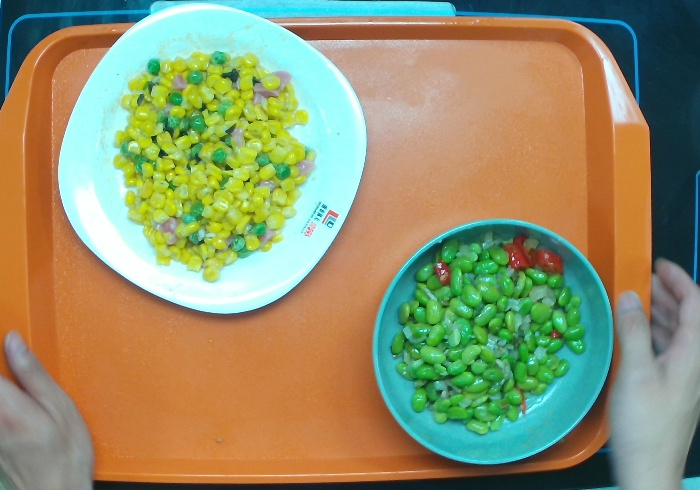ZNLD-Qing_Hua_Yuan_Wan: (370, 217, 618, 470)
ZNLD-Yuan_Jiao_Pan: (53, 3, 367, 321)
